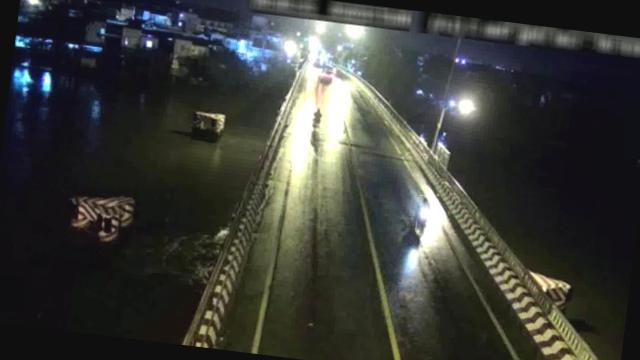Bike: (414, 194, 431, 236), (310, 108, 324, 130)
